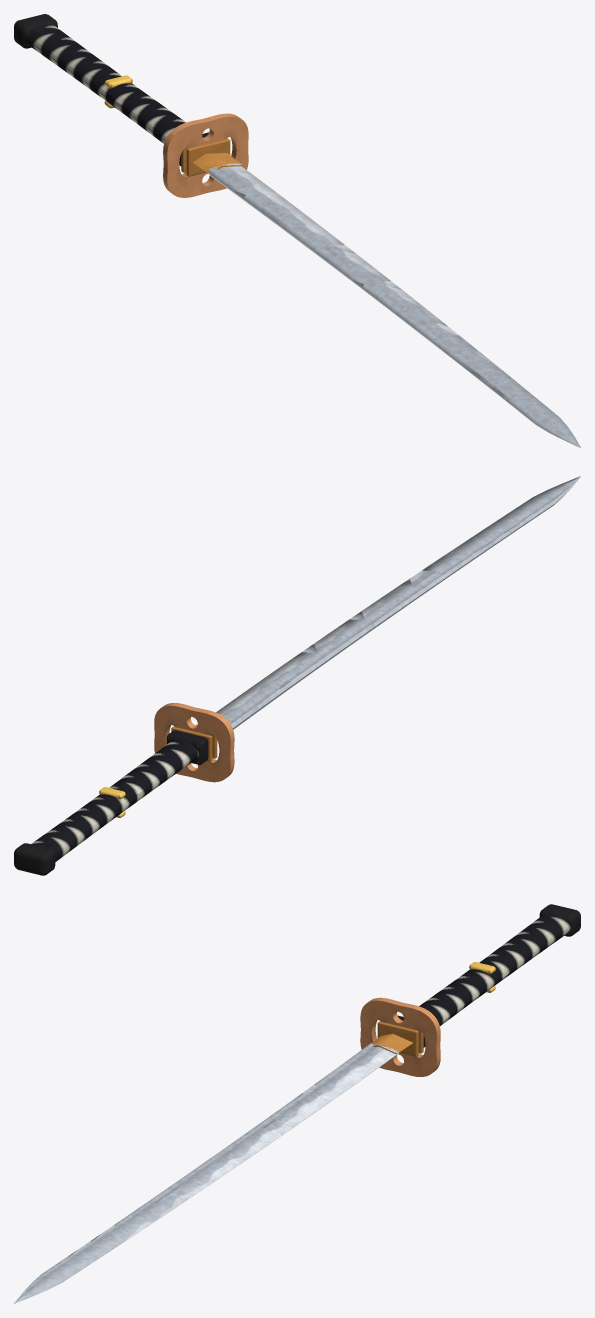
The model's file is katana_game.glb.
3 renders of one model, top to bottom at view 1: azimuth 30°, elevation 25°; view 2: azimuth 150°, elevation 25°; view 3: azimuth 330°, elevation 25°, orthographic. The views are drawn at different scales.
Parts seen in each view (by area): view 1: SM_katana_Body; view 2: SM_katana_Body; view 3: SM_katana_Body.
Part boxes in pixels (box(x1,y1,x2,y2)): SM_katana_Body: box(14, 14, 580, 447); SM_katana_Body: box(14, 476, 580, 875); SM_katana_Body: box(14, 904, 580, 1303).
Size of the model in its own units: 0.0809 by 0.0684 by 0.98.
Materials: 1 (1 with a texture image).
